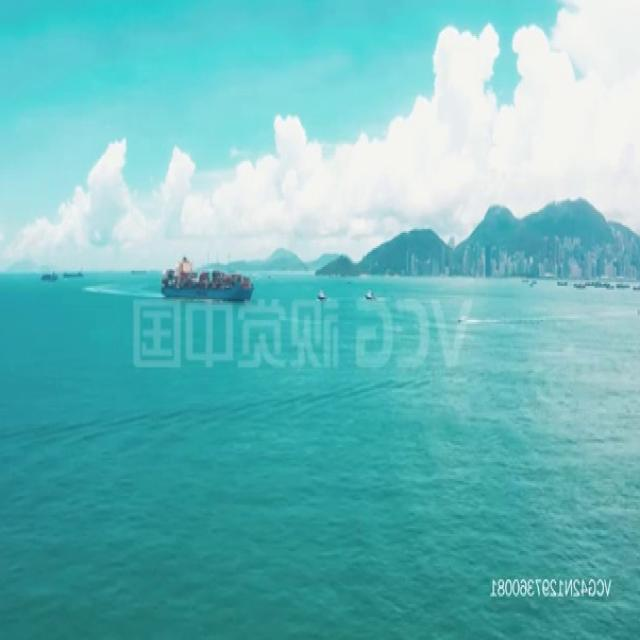cargoship: (162, 253, 252, 304), (65, 266, 84, 278), (128, 266, 149, 275), (41, 268, 58, 279)
houseboat: (314, 287, 328, 301), (365, 286, 377, 300), (455, 312, 467, 322)
